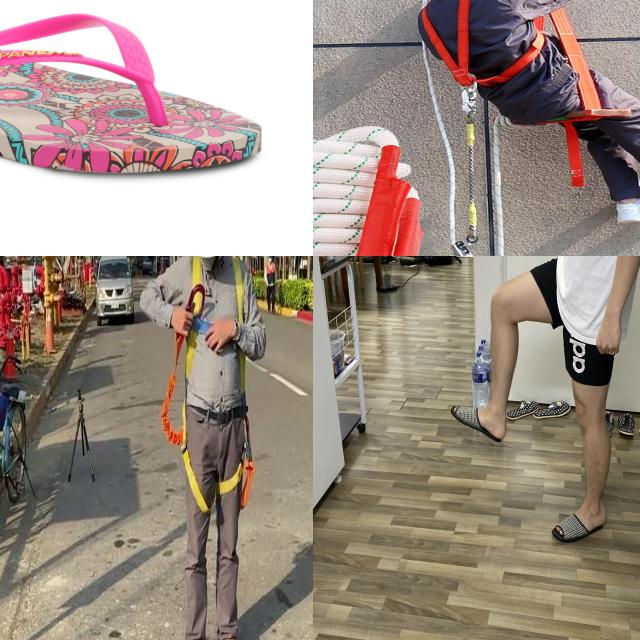Harness: (161, 256, 209, 512), (422, 0, 544, 90), (218, 449, 256, 510)
Sandals: (0, 3, 264, 175), (551, 487, 607, 543)
